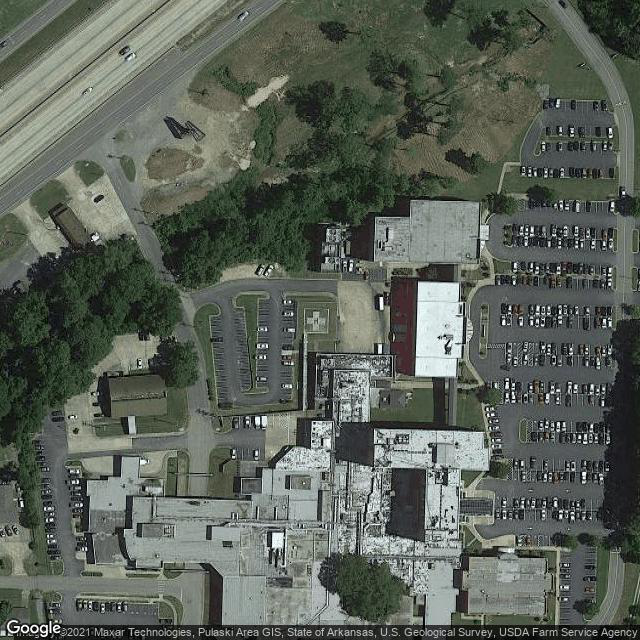Helipad: (301, 304, 331, 336)
